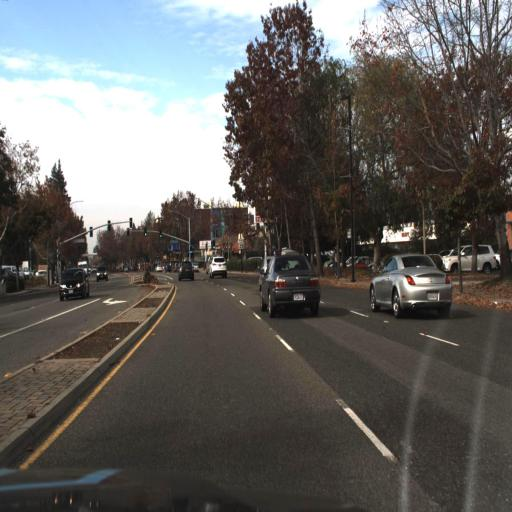car: (369, 251, 458, 314), (257, 250, 323, 319), (442, 239, 498, 277), (442, 246, 497, 272), (57, 268, 89, 302), (205, 254, 230, 276), (177, 259, 197, 283)
truck: (73, 259, 87, 278)
